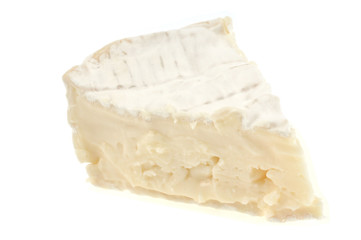camembert: (60, 14, 326, 225)
